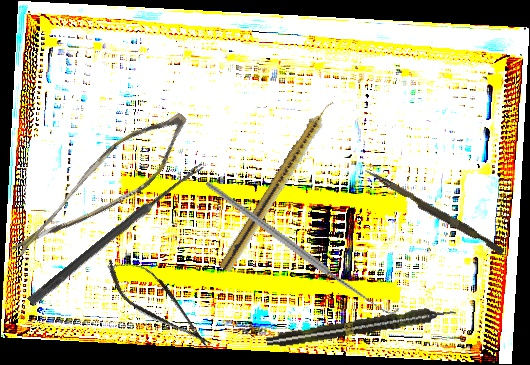Handpiece: (218, 96, 339, 276), (265, 303, 458, 351)
Hook Surgical: (205, 131, 400, 362)
Micro Scissor: (8, 85, 198, 294), (96, 245, 223, 362)
Pusher: (361, 167, 507, 256)
Surgical Spoon: (27, 160, 205, 307)
